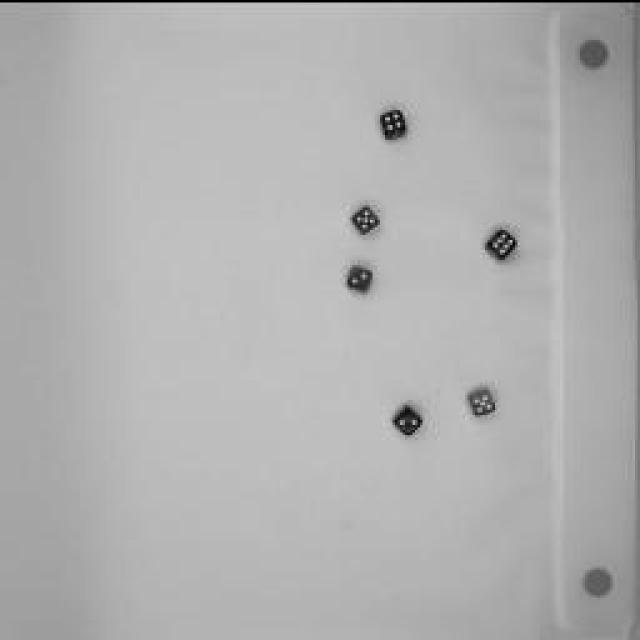dice_2: (387, 398, 425, 440), (344, 260, 376, 295)
dice_4: (375, 101, 410, 144)
dice_5: (345, 200, 385, 238), (462, 382, 502, 420)
dice_6: (482, 221, 522, 264)
